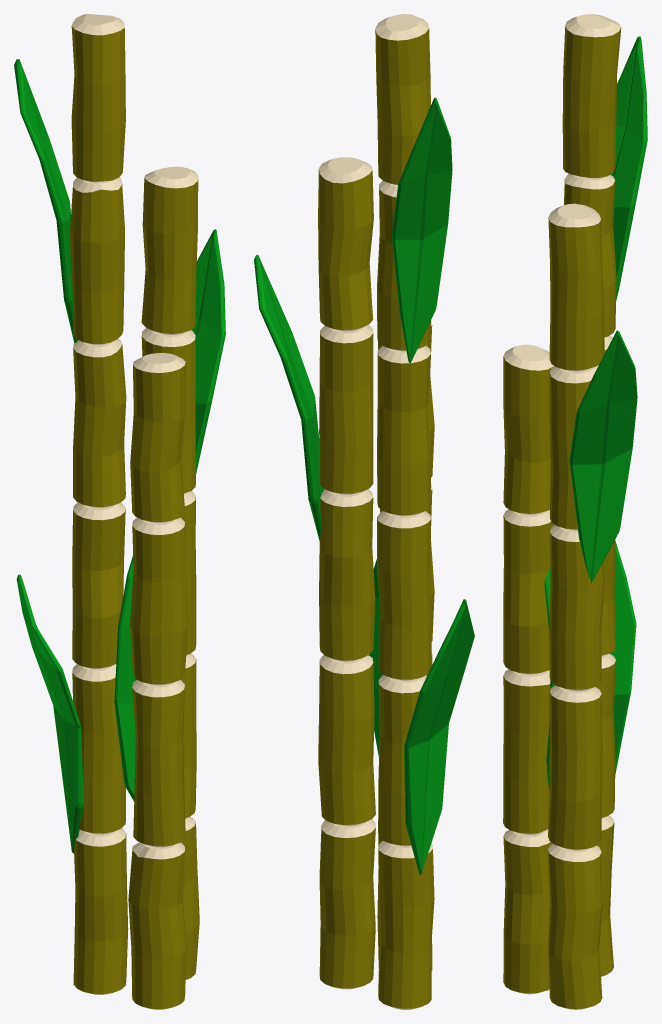
File: Sugarcanes.fbx
The picture shows the model from 3 angles, left to right: view 1: azimuth 30°, elevation 25°; view 2: azimuth 150°, elevation 25°; view 3: azimuth 270°, elevation 25°; orthographic projection. The views are drawn at different scales.
Parts seen in each view (by area): view 1: sugar cane; view 2: sugar cane; view 3: sugar cane.
Boxes of the visible parts, x1,y1,x2,y2 form: sugar cane: [14, 14, 225, 1009]; sugar cane: [254, 14, 474, 1009]; sugar cane: [503, 14, 647, 1009].
Size of the model in its own units: 565 by 2559 by 351.
